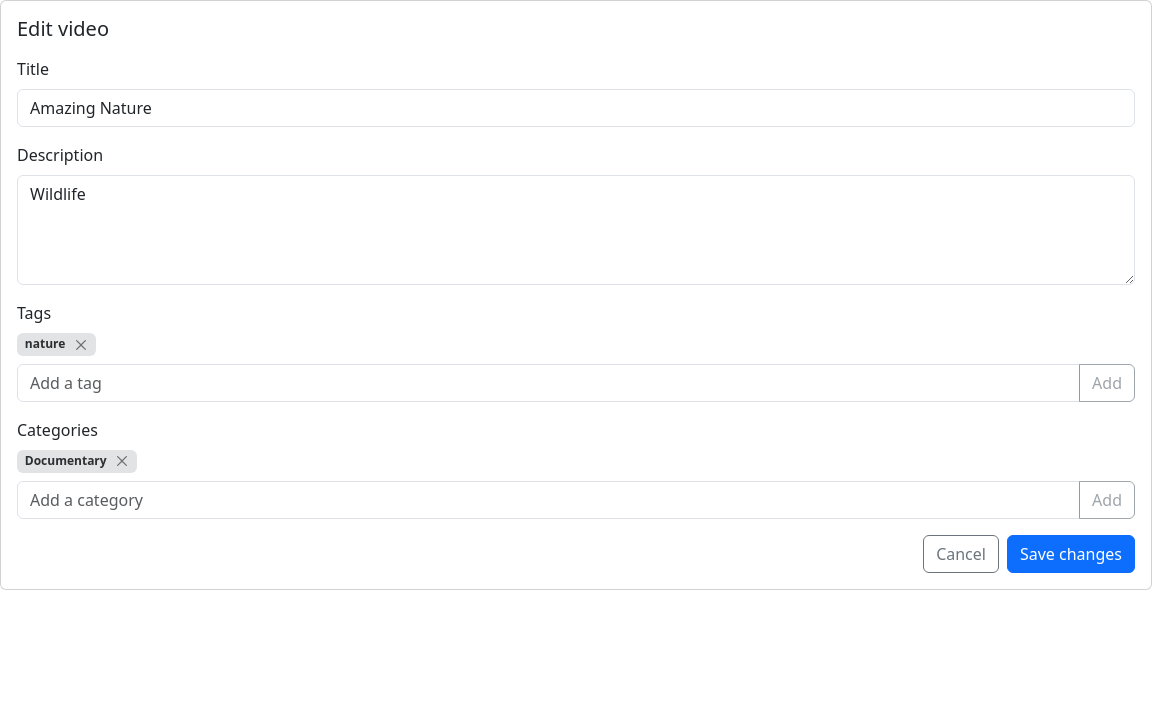
Test case: VideoEditForm › shows the server error 0
Click the button "Save changes".
click(1071, 554)  # box [1007,534,1135,572]
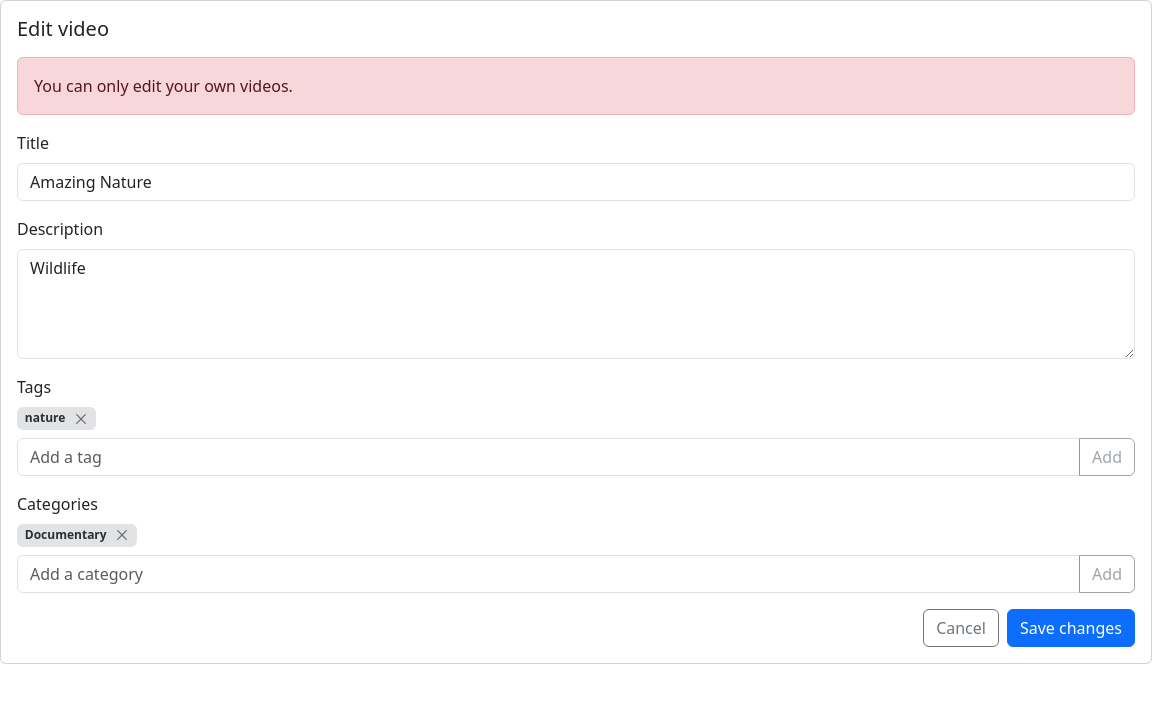
Expected: the button "Save changes" is enabled, [1007,608,1135,646]
Expected: the message reads "You can only edit your own videos.", [34,75,293,97]
